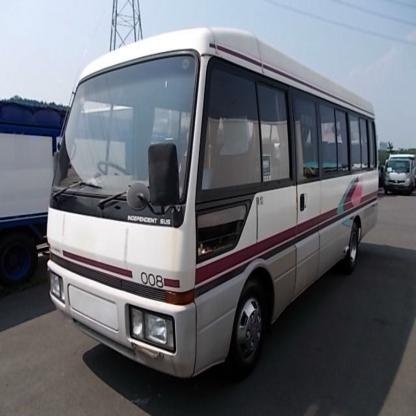Bus: (45, 27, 378, 381)
